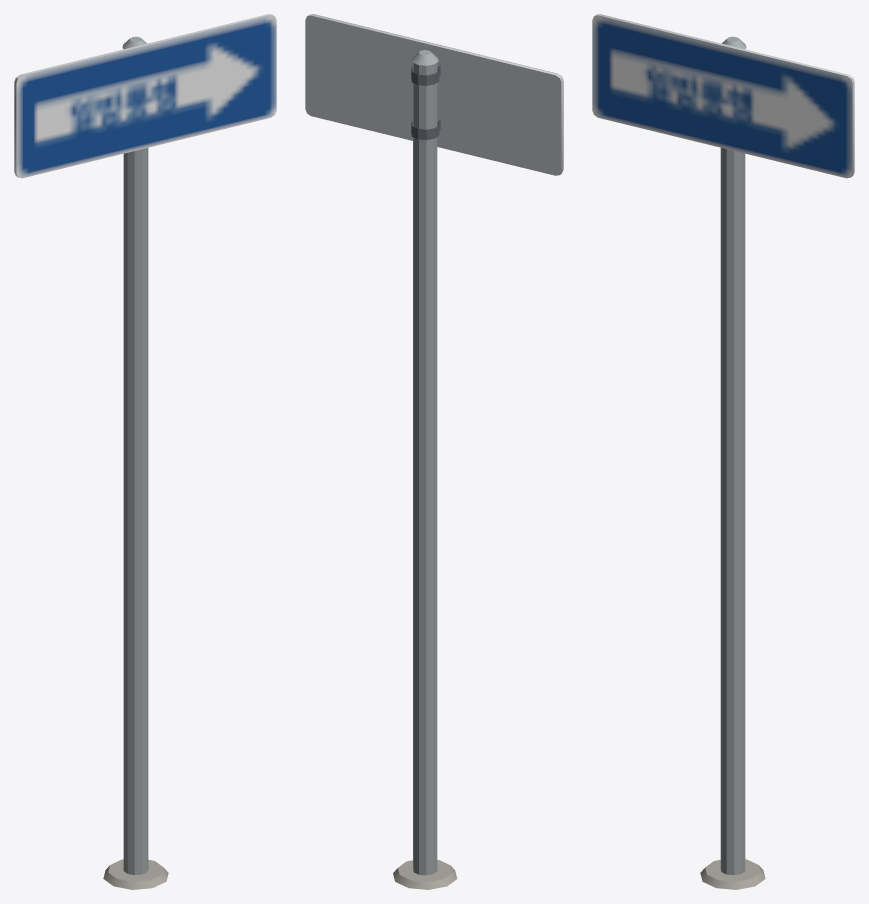
Rendered from SC_Str_Sign_OneWay.gltf.
3 renders of one model, left to right at view 1: azimuth 30°, elevation 25°; view 2: azimuth 150°, elevation 25°; view 3: azimuth 330°, elevation 25°, orthographic.
Parts seen in each view (by area): view 1: SC_Str_Sign_OneWay; view 2: SC_Str_Sign_OneWay; view 3: SC_Str_Sign_OneWay.
Part boxes in pixels (x1=…): SC_Str_Sign_OneWay: x1=14, y1=14, x2=276, y2=889; SC_Str_Sign_OneWay: x1=305, y1=14, x2=563, y2=889; SC_Str_Sign_OneWay: x1=592, y1=14, x2=854, y2=889.
Size of the model in its own units: 0.9 by 2.77 by 0.2.
2 materials, 2 textured.
